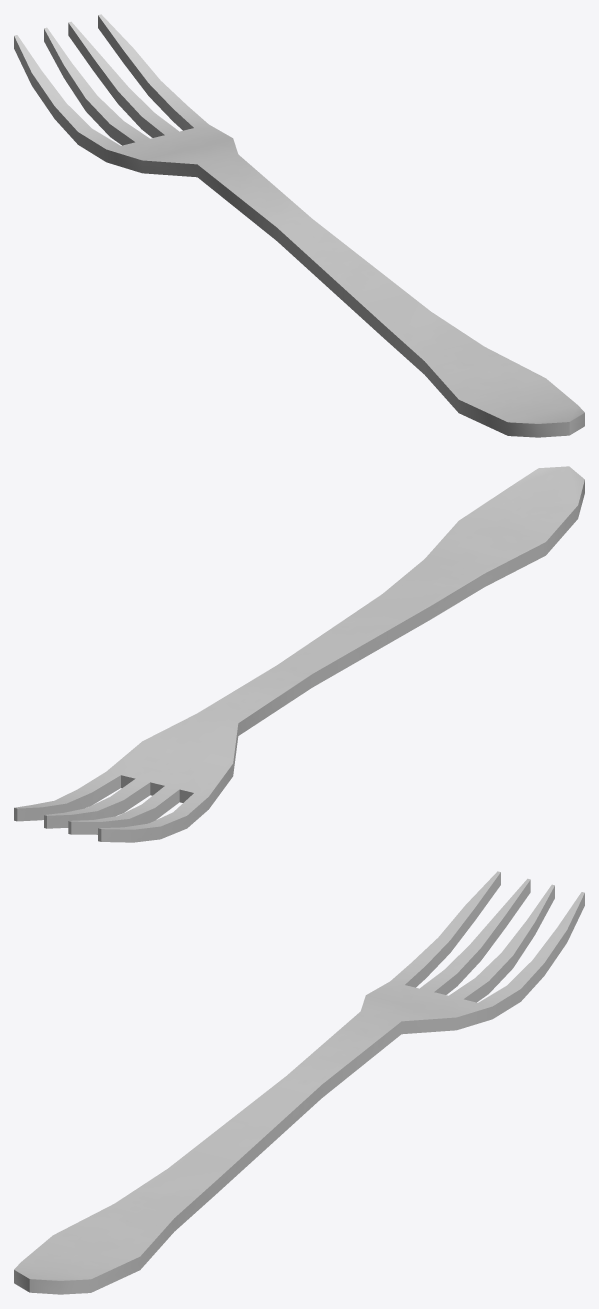
Rendered from Fork.fbx.
3 views of the same model, one above another, from view 1: azimuth 30°, elevation 25°; view 2: azimuth 150°, elevation 25°; view 3: azimuth 330°, elevation 25° (orthographic).
Parts seen in each view (by area): view 1: Fork; view 2: Fork; view 3: Fork.
Part boxes in pixels (<box>): Fork: <box>14,14,584,437</box>; Fork: <box>14,466,584,842</box>; Fork: <box>14,871,584,1294</box>.
Size of the model in its own units: 2.66 by 1.21 by 21.6.
